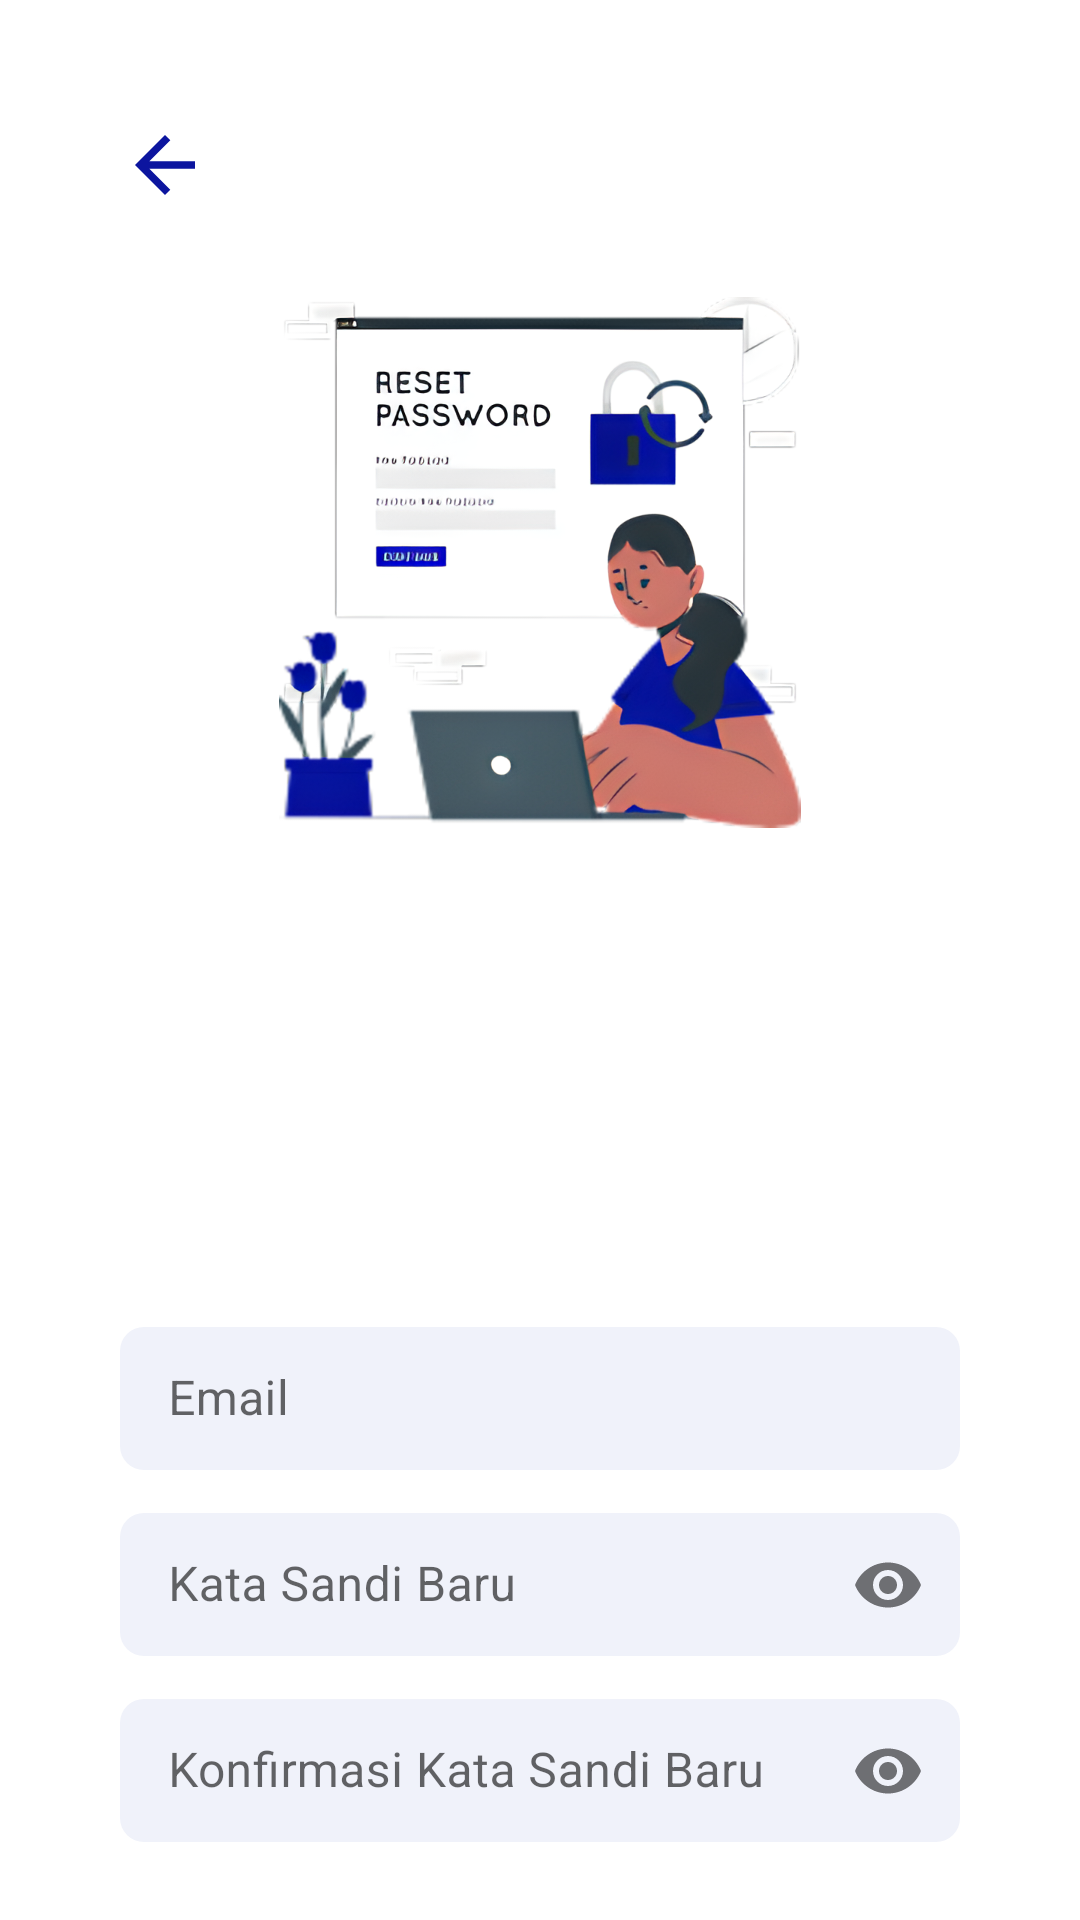

Icon click points for this 1080px x 1920px phone screenshot, format point (x, y):
arrow backblue: point (165, 165)
